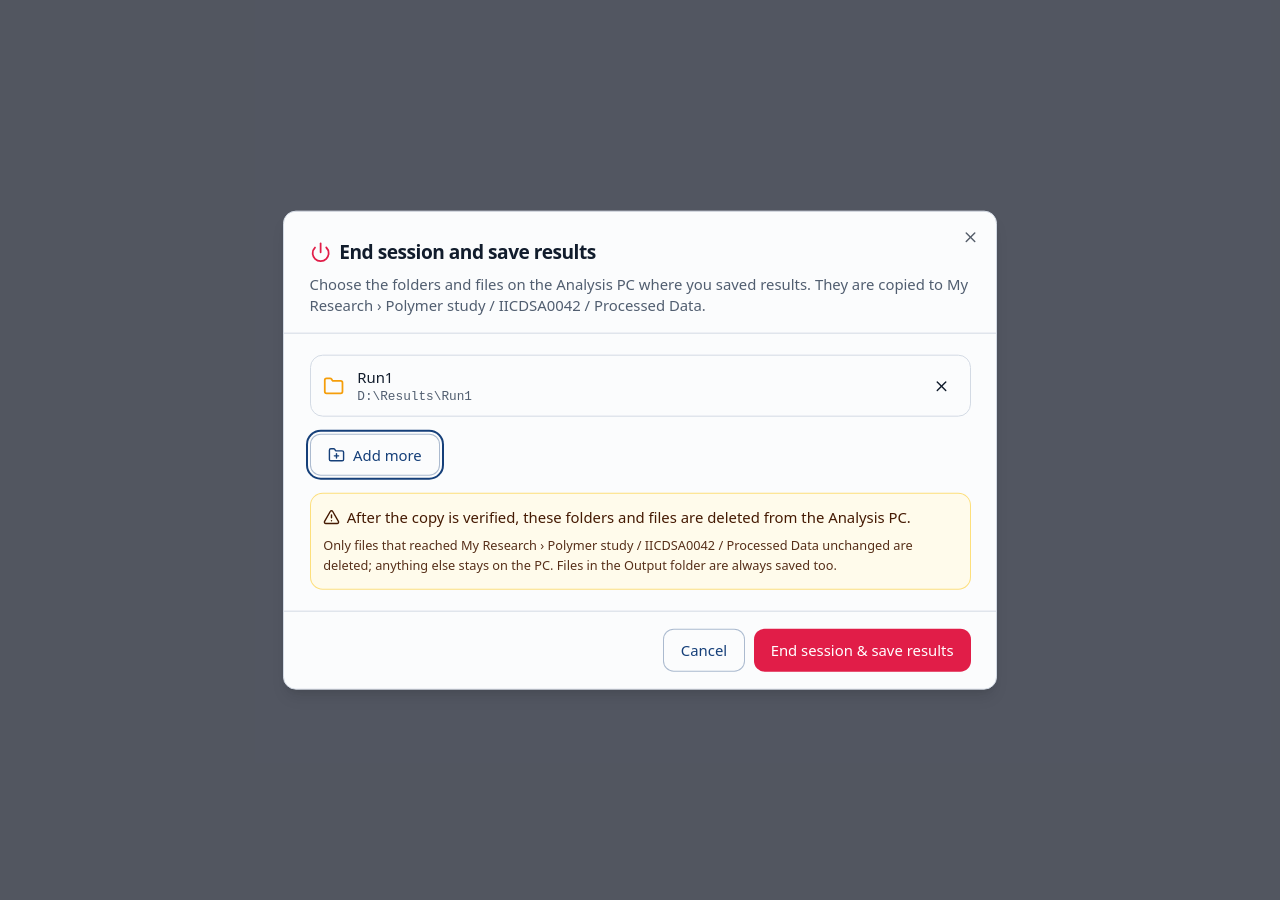
it: EndSessionDialog › does not select items already covered by a chosen folder
The width and height of the screenshot is (1280, 900).
Click the button "Add more" at x=375, y=455, box [310,434,440,476]
Wait 1100 ms
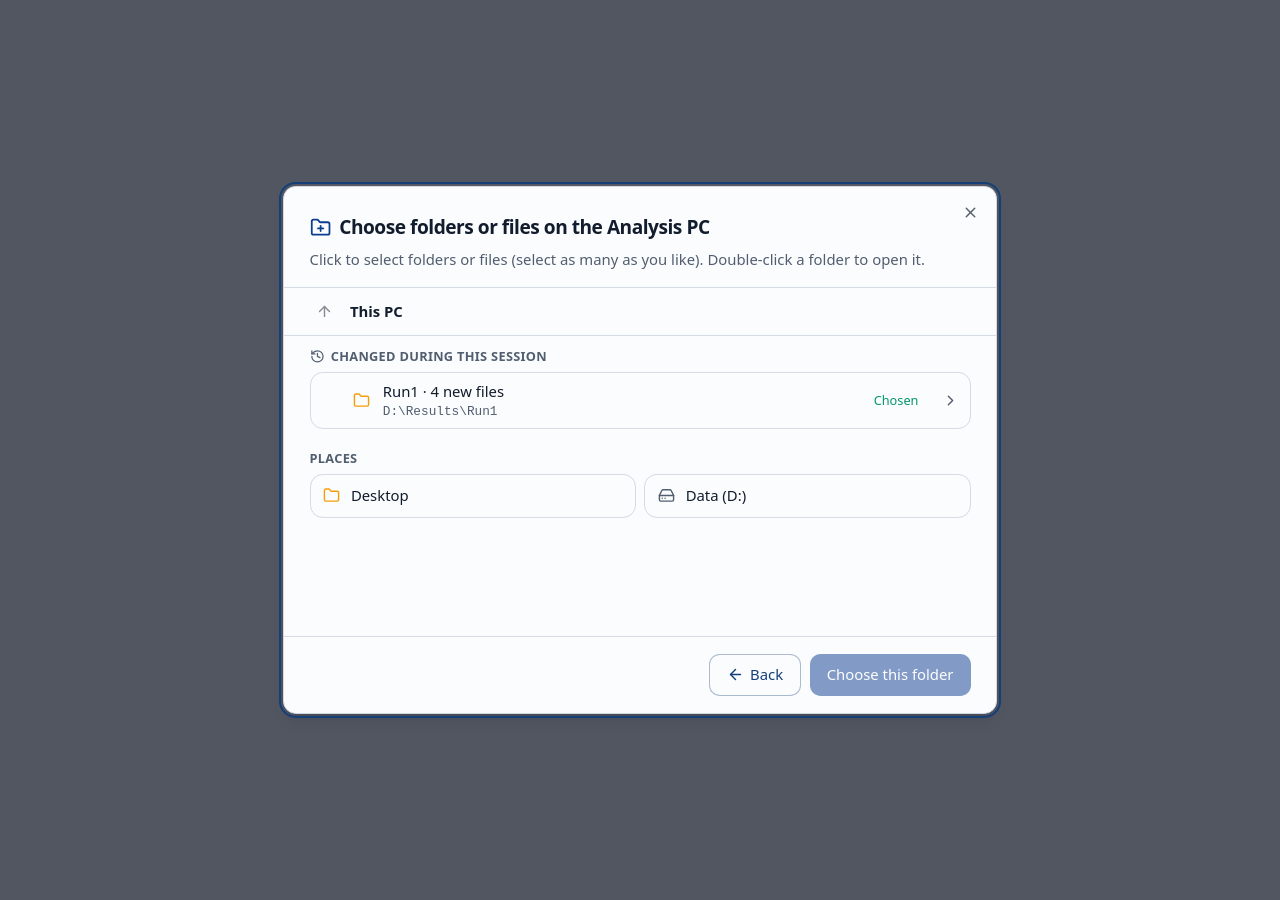
Now the element with test id "folder-browser" shows "Places", box [310,449,358,467]
Double-click the option "Run1 · 4 new files D:\\Results\\Run1 Chosen" at x=443, y=391, box [310,373,931,428]
Wait 1100 ms
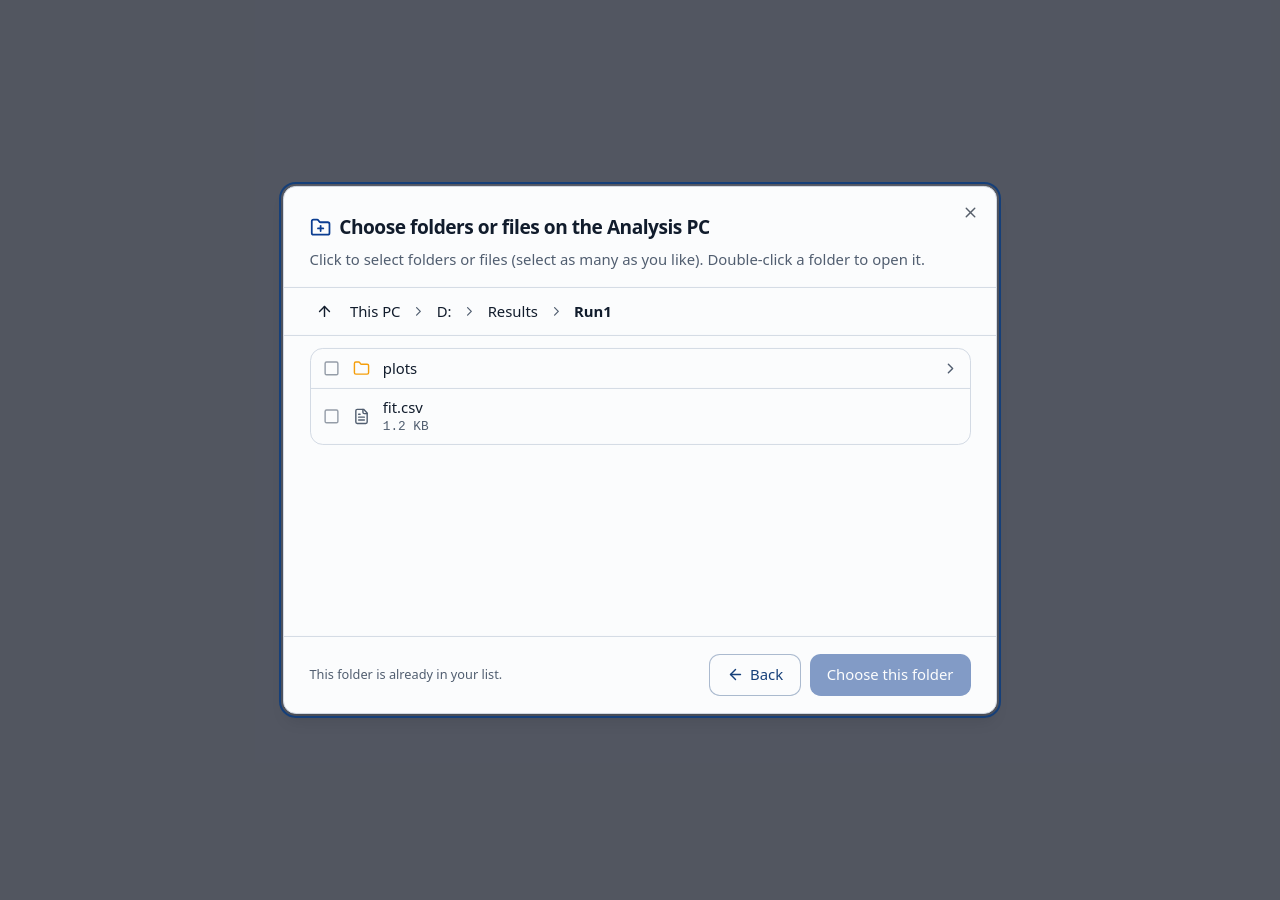
Now the element with test id "folder-browser" shows "fit.csv"
Click the option "fit.csv 1.2 KB" at x=403, y=407, box [310,389,970,444]
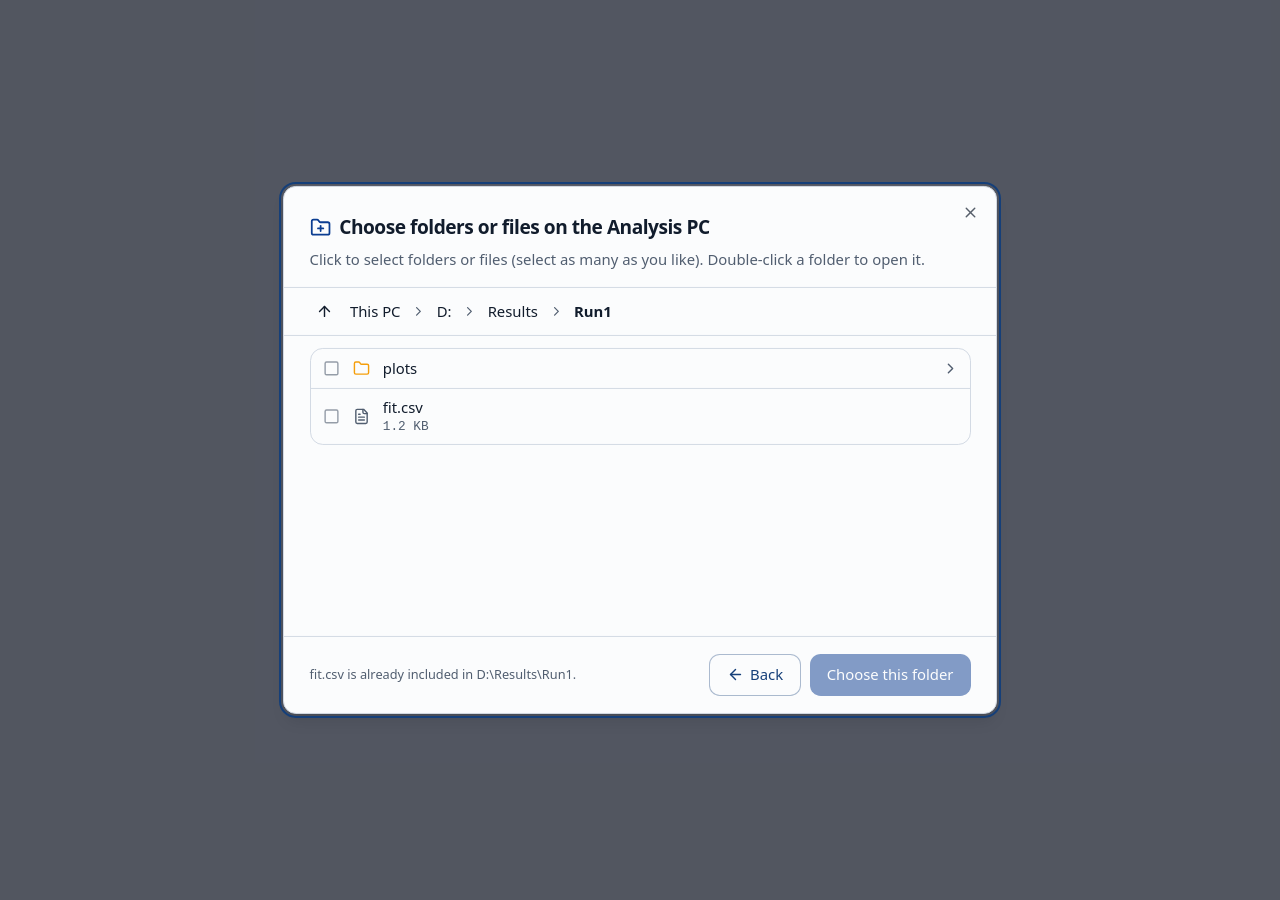
Now the text with test id "choose-hint" shows "already included in D:\\Results\\Run1", box [310,665,576,683]
